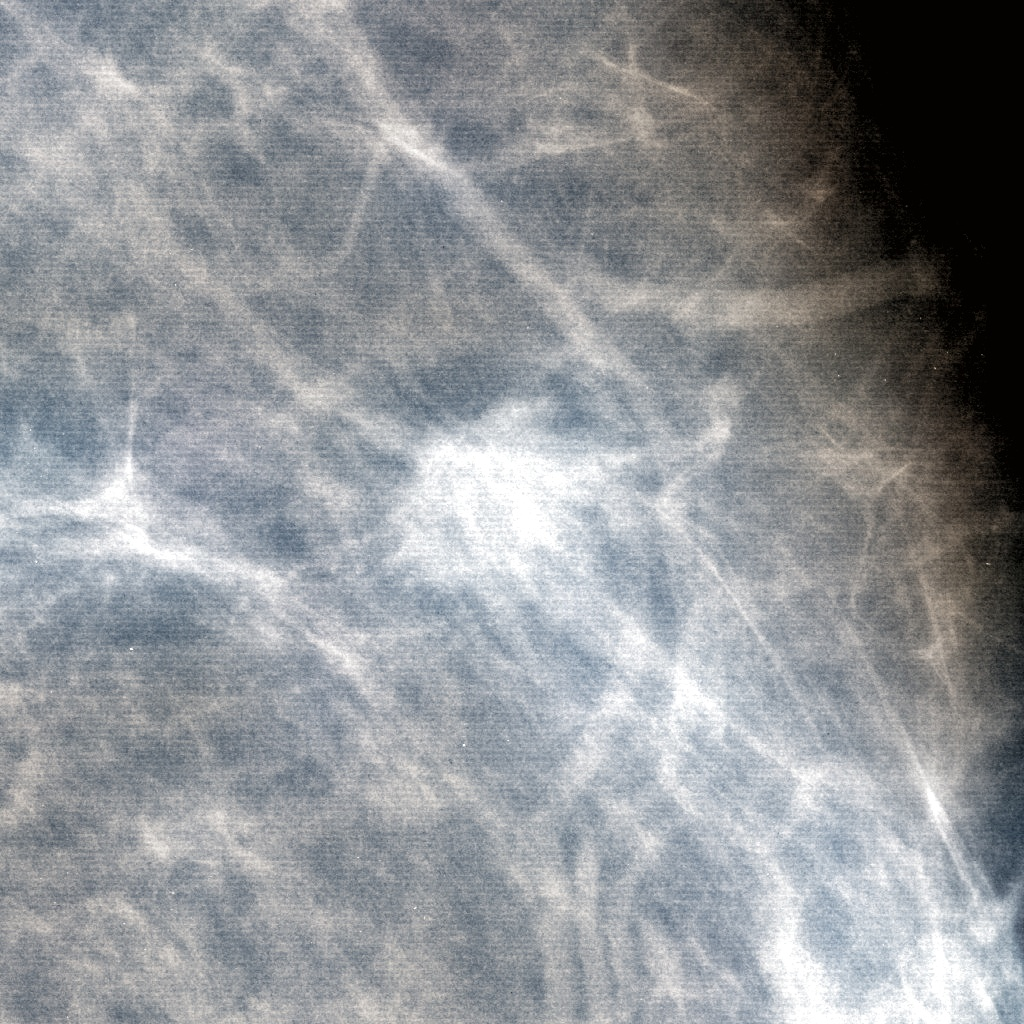tumor: (363, 389, 661, 635)
